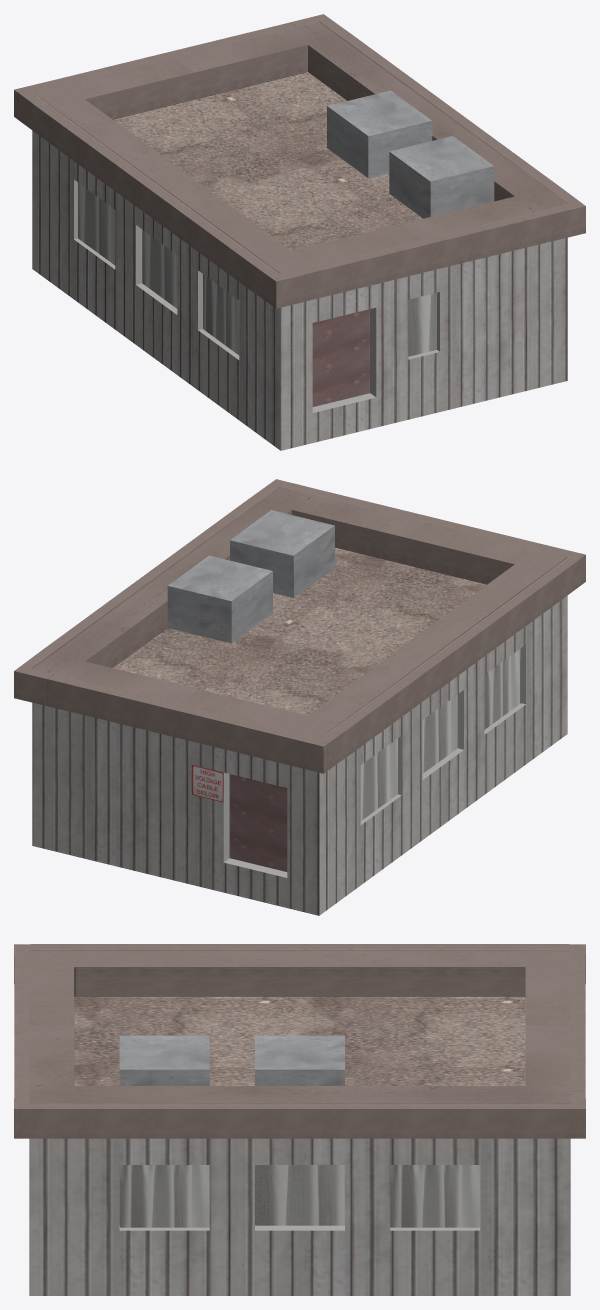
File: hous.fbx
The picture shows the model from 3 angles, top to bottom: view 1: azimuth 30°, elevation 25°; view 2: azimuth 150°, elevation 25°; view 3: azimuth 270°, elevation 25°; orthographic projection. The views are drawn at different scales.
Parts seen in each view (by area): view 1: Object_2, Object_3; view 2: Object_2, Object_3; view 3: Object_2, Object_3.
Part boxes in pixels (x1=…): Object_2: x1=14, y1=14, x2=585, y2=450; Object_3: x1=78, y1=182, x2=436, y2=356; Object_2: x1=14, y1=479, x2=585, y2=915; Object_3: x1=360, y1=648, x2=520, y2=820; Object_2: x1=14, y1=944, x2=585, y2=1295; Object_3: x1=119, y1=1165, x2=480, y2=1227.
Size of the model in its own units: 435 by 258 by 637.
Materials: 2 (2 with a texture image).
